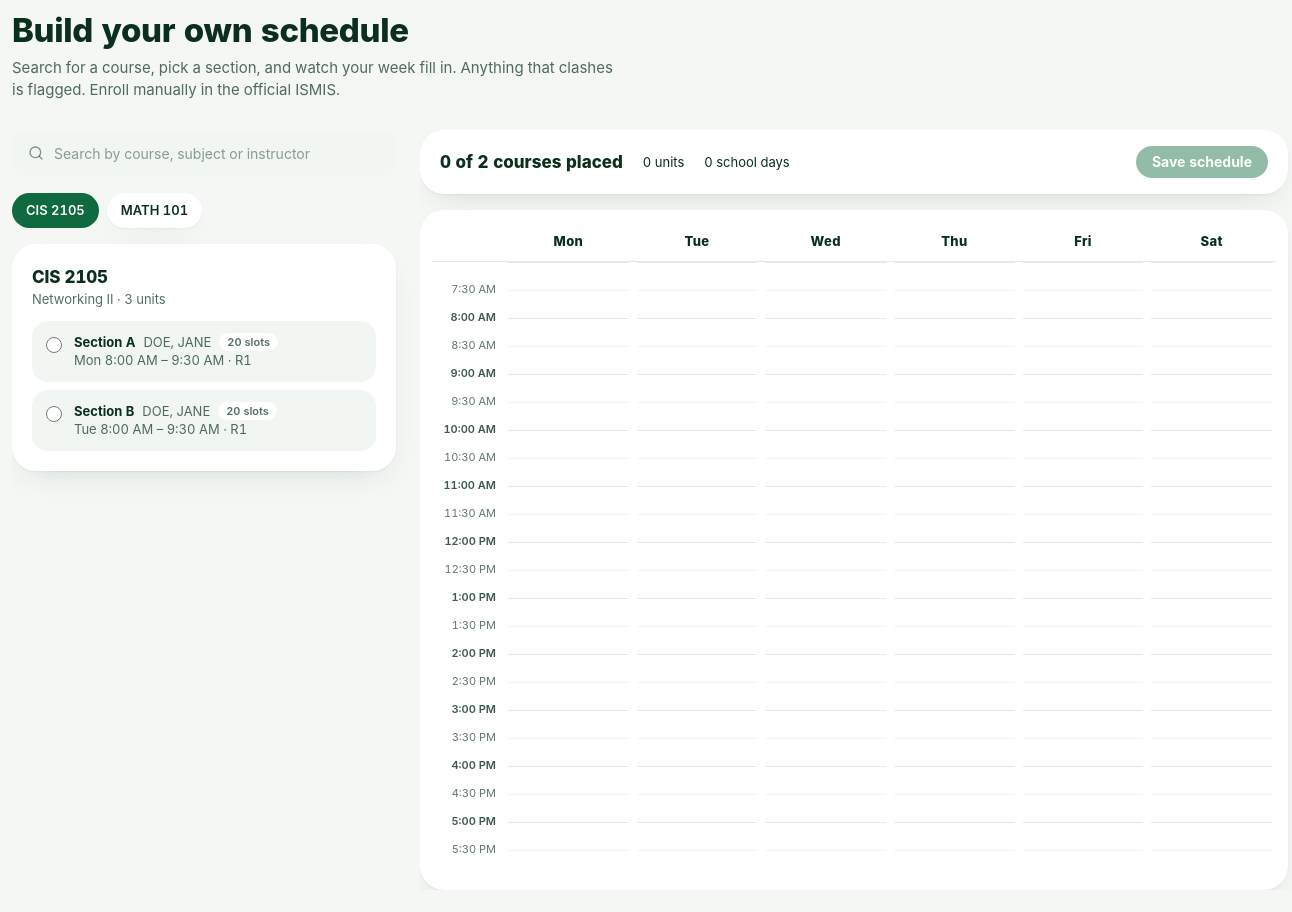
Scenario: BuildSchedulePage › shows one course at a time, moves on to the next unplaced one after a pick, and switches from the course chips
Check: the radio button with aria-label "CIS 2105 section A" is shown, box [46,337,62,353]
Click the radio button with aria-label "CIS 2105 section B" at (54, 414), box [46,406,62,422]
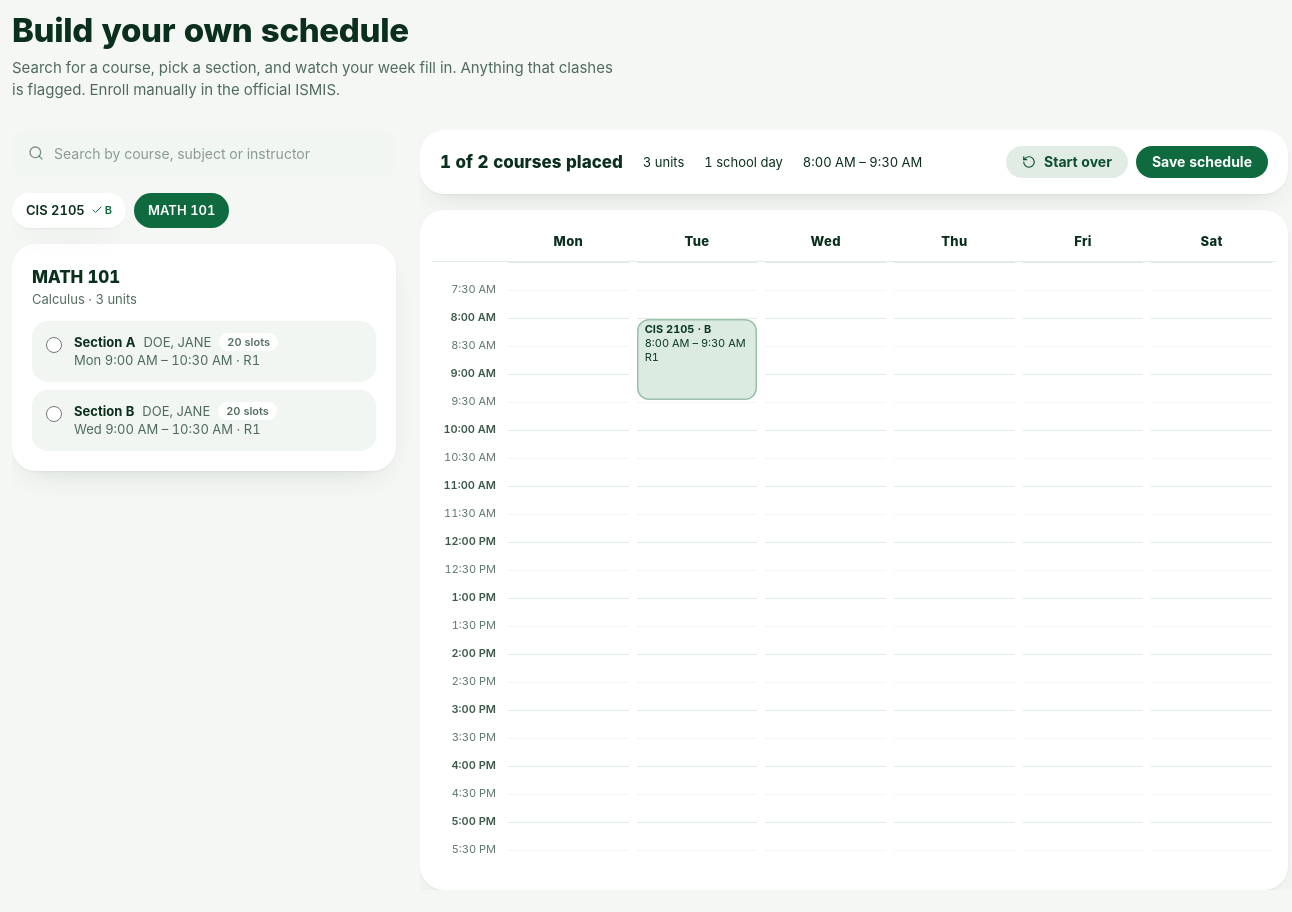
Check: the radio button with aria-label "MATH 101 section A" is shown, box [46,337,62,353]
Click the button "CIS 2105 B" at (69, 210), box [12,193,126,228]
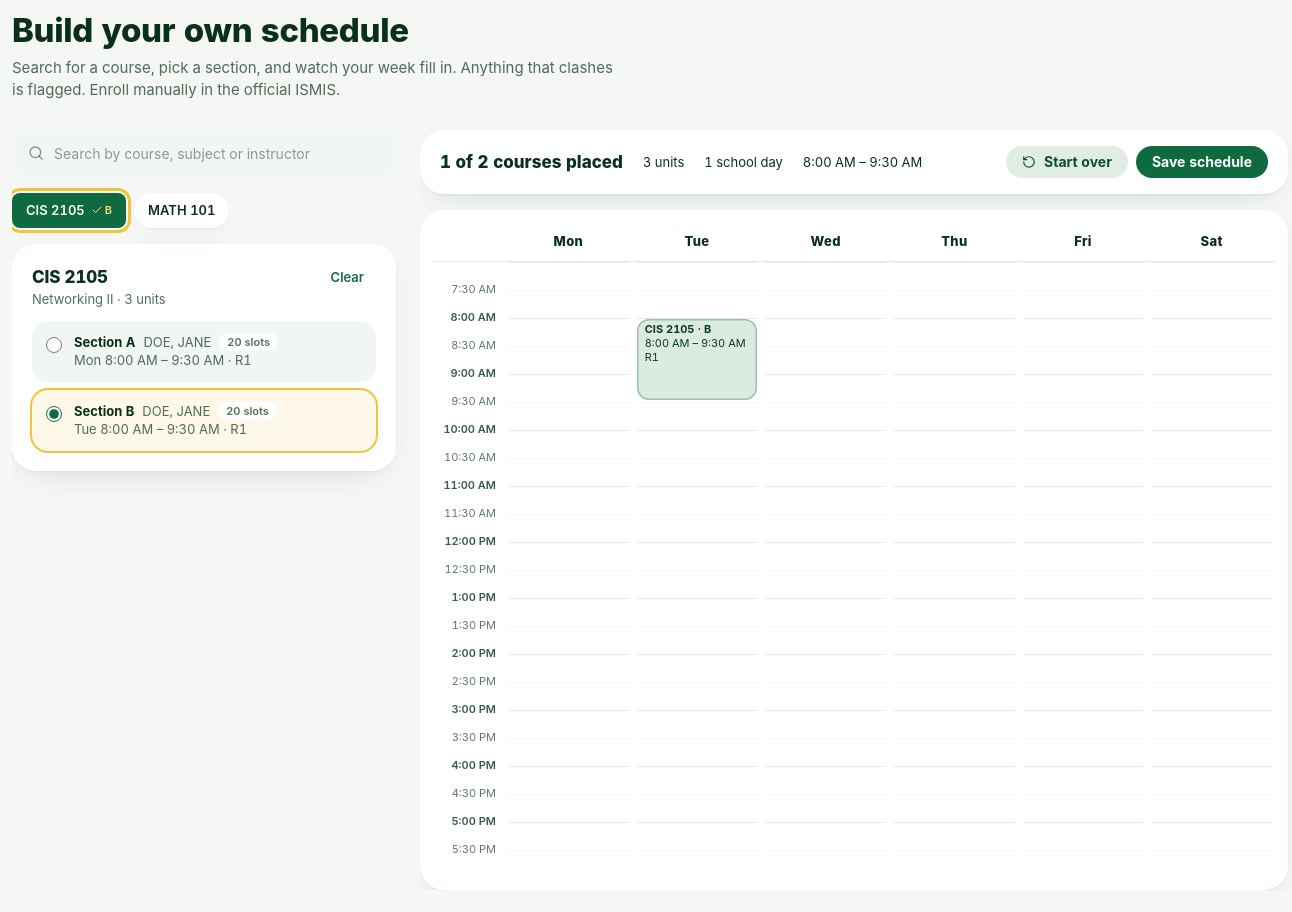
Check: the radio button with aria-label "CIS 2105 section B" is checked, box [46,406,62,422]
